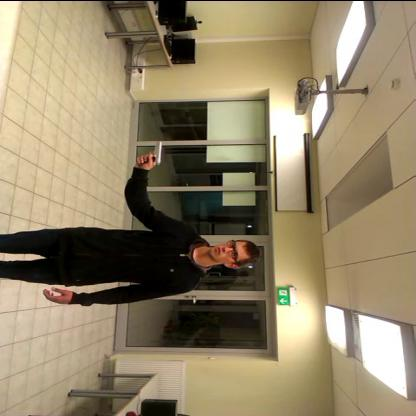Pistol: (126, 136, 168, 172)
